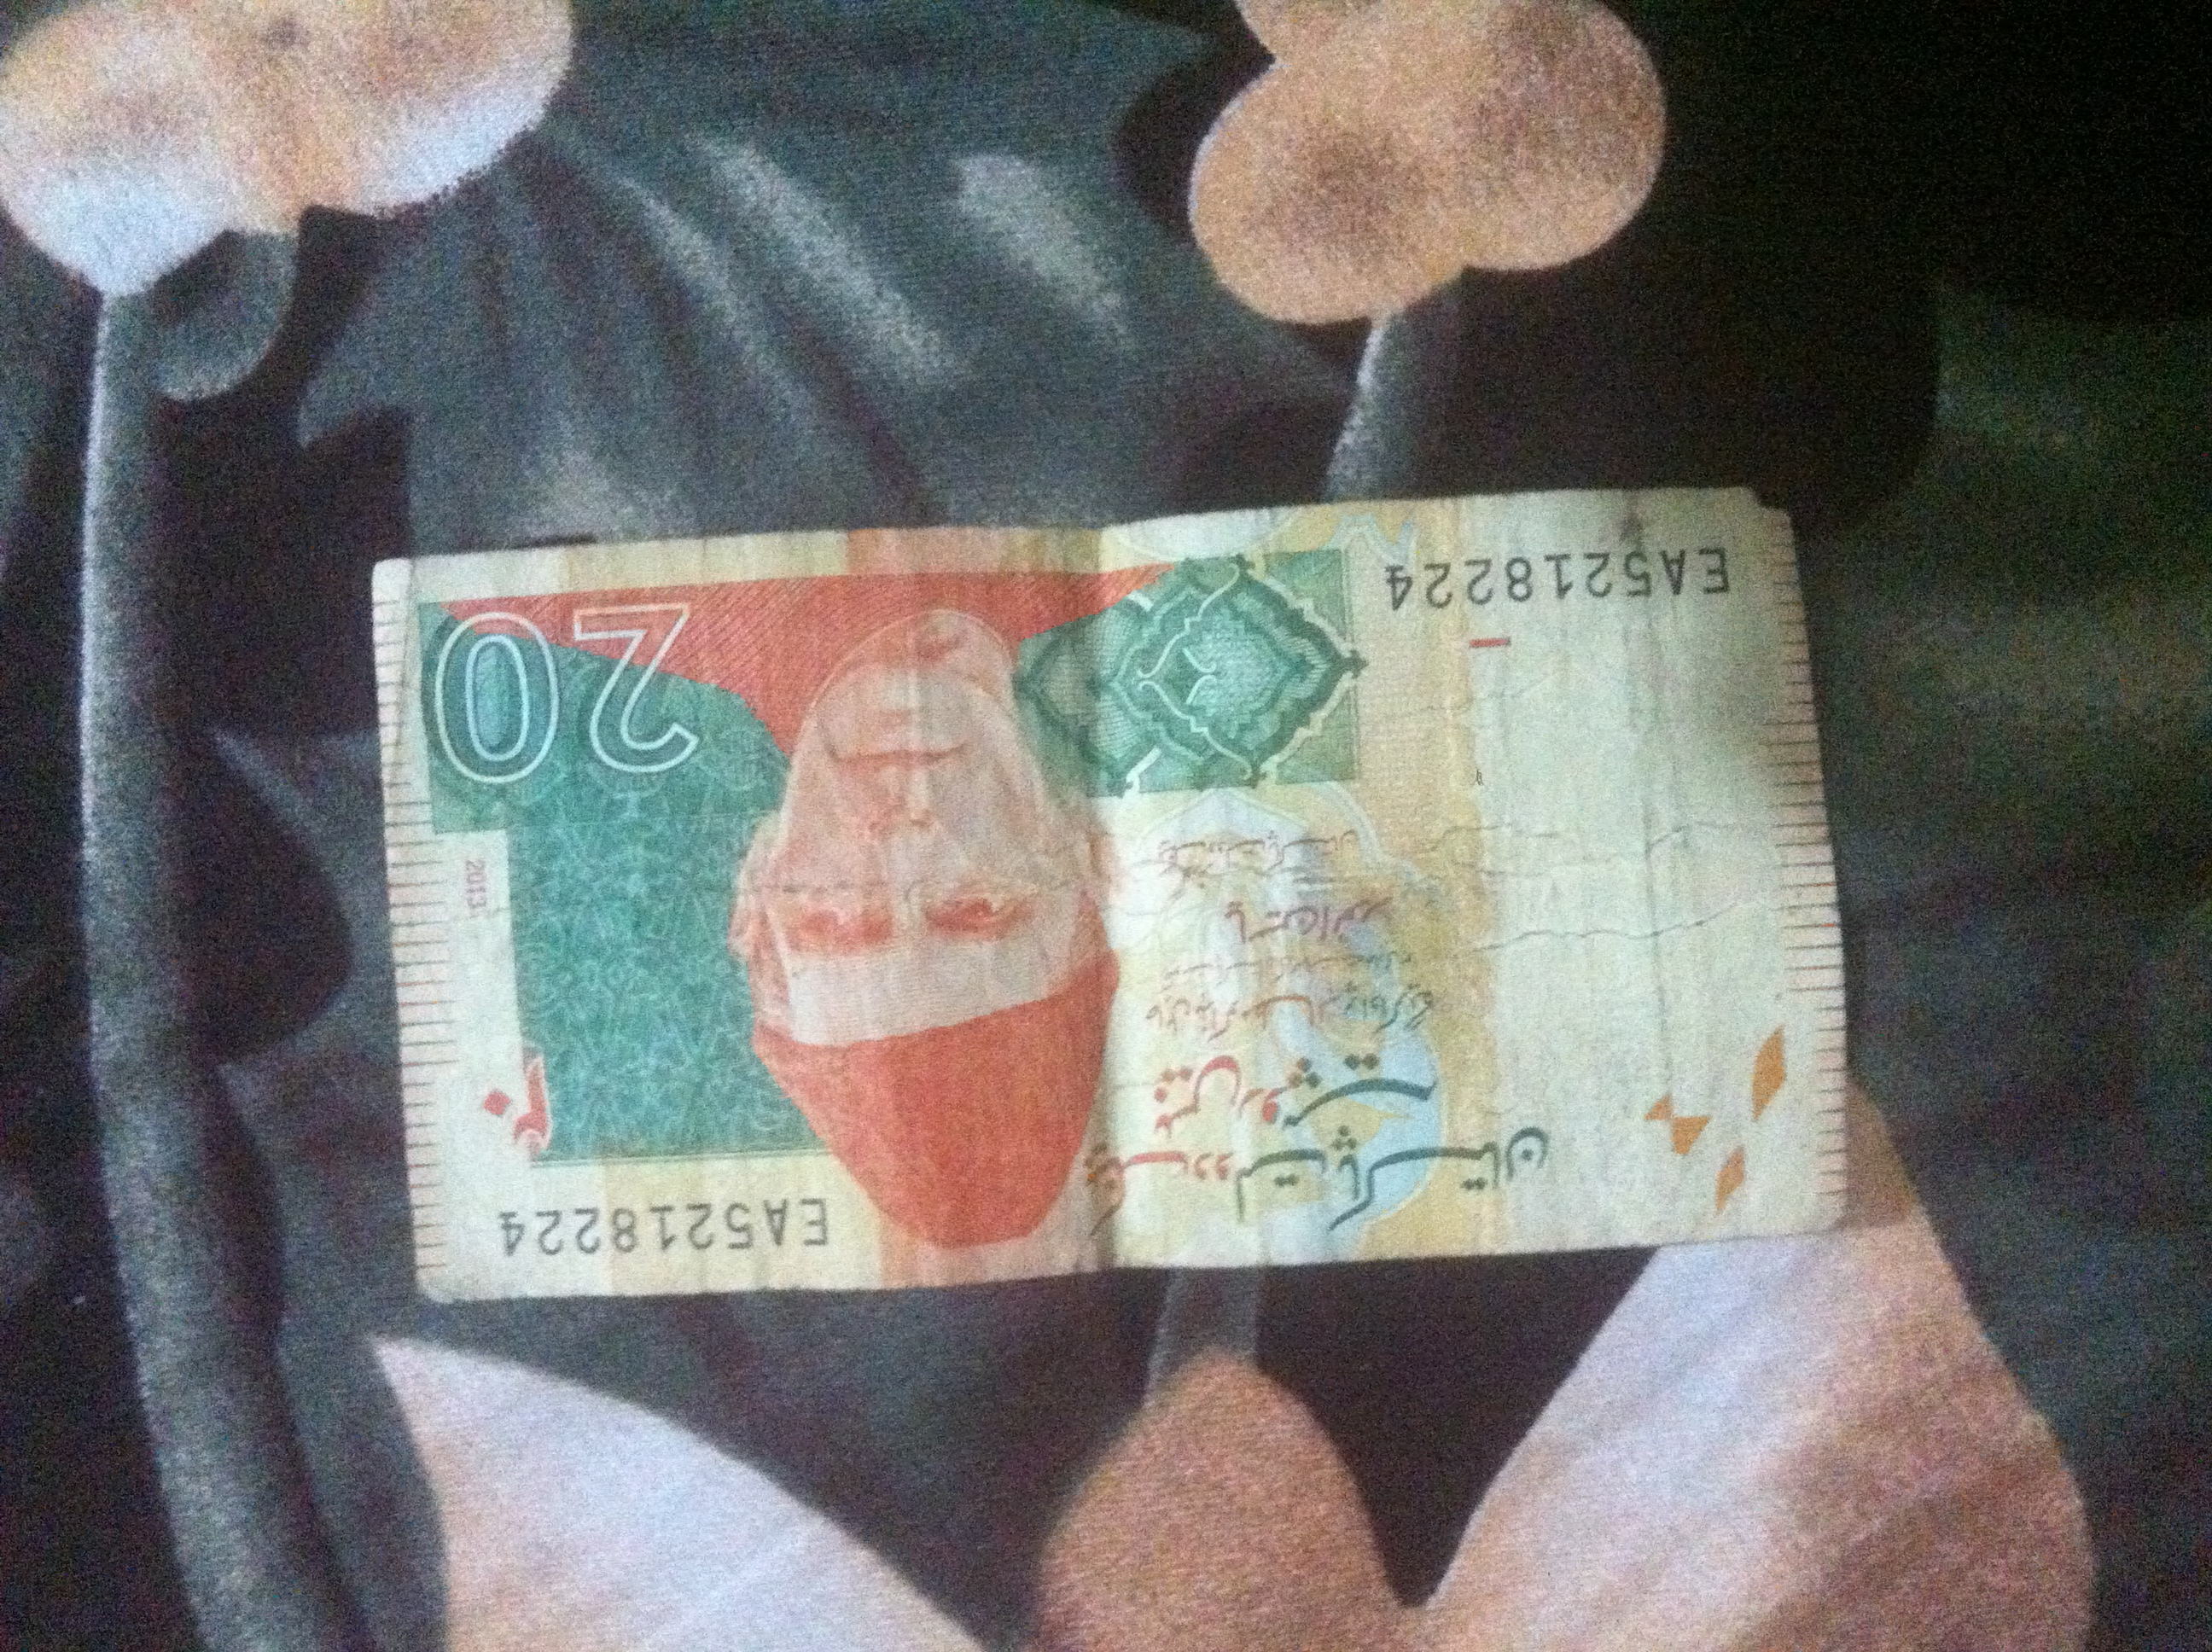20 rupee: (276, 474, 1950, 1322)
